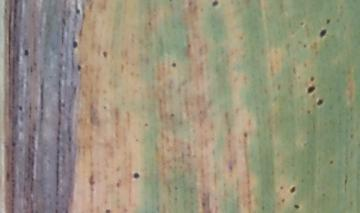tarspot: (318, 28, 327, 38), (70, 39, 78, 50), (306, 85, 317, 93), (288, 184, 296, 194), (100, 49, 108, 58), (210, 1, 220, 8), (299, 18, 306, 28), (132, 171, 140, 179), (304, 107, 312, 115), (23, 48, 30, 57), (316, 97, 323, 106), (10, 140, 17, 148), (74, 7, 81, 15), (308, 75, 315, 83), (169, 110, 176, 118), (185, 41, 192, 49), (114, 180, 121, 188), (349, 131, 355, 140), (280, 197, 287, 204), (170, 61, 178, 67), (328, 157, 334, 165), (143, 119, 149, 127), (301, 42, 307, 50), (77, 63, 82, 72), (293, 203, 299, 210), (243, 131, 249, 138), (278, 185, 285, 191), (19, 103, 23, 112), (325, 18, 331, 24), (105, 208, 112, 213), (147, 21, 153, 26), (102, 105, 107, 110)
